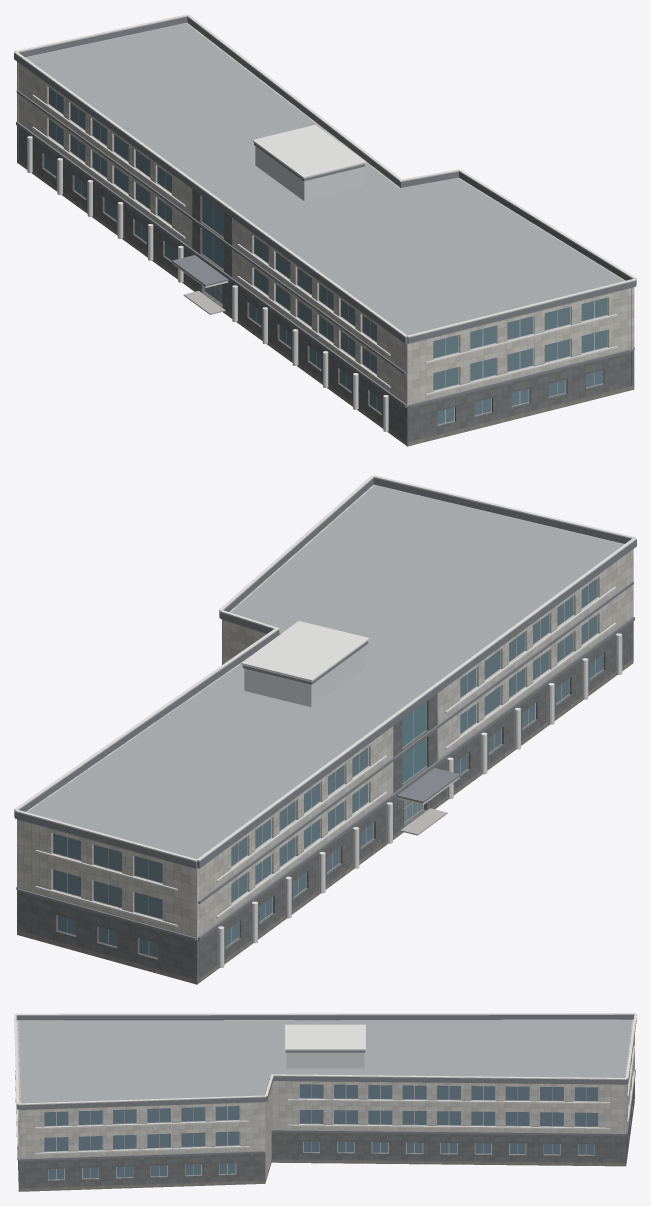
The picture shows the model from 3 angles, top to bottom: view 1: azimuth 30°, elevation 25°; view 2: azimuth 150°, elevation 25°; view 3: azimuth 270°, elevation 25°; orthographic projection. The views are drawn at different scales.
Visible parts, largest first — view 1: bi__roof, bi__panelwall, bi__glass, bi__bluetrim, bi__brick, bi__cap, bi__darkwall, bi__trim, bi__frame, bi__column, bi__core, bi__plinth (+2 smaller); view 2: bi__roof, bi__panelwall, bi__bluetrim, bi__glass, bi__brick, bi__cap, bi__darkwall, bi__trim, bi__column, bi__core, bi__frame, bi__plinth (+2 smaller); view 3: bi__roof, bi__panelwall, bi__darkwall, bi__glass, bi__bluetrim, bi__cap, bi__frame, bi__trim, bi__plinth, bi__core, bi__foundation.
Part boxes in pixels (x1,y1,x2,y2): bi__roof: [25, 23, 623, 335]; bi__panelwall: [17, 22, 634, 406]; bi__glass: [44, 87, 607, 424]; bi__bluetrim: [14, 17, 636, 407]; bi__brick: [17, 126, 407, 441]; bi__cap: [14, 14, 636, 337]; bi__darkwall: [17, 126, 634, 442]; bi__trim: [32, 94, 617, 395]; bi__frame: [44, 87, 607, 425]; bi__column: [27, 136, 388, 431]; bi__core: [255, 146, 363, 201]; bi__plinth: [17, 159, 633, 445]; bi__roof: [27, 485, 623, 859]; bi__panelwall: [17, 484, 633, 939]; bi__bluetrim: [14, 478, 636, 940]; bi__glass: [53, 578, 602, 957]; bi__brick: [193, 621, 633, 979]; bi__cap: [14, 475, 636, 861]; bi__darkwall: [17, 693, 437, 979]; bi__trim: [35, 586, 616, 927]; bi__column: [218, 633, 622, 967]; bi__core: [244, 645, 366, 707]; bi__frame: [52, 578, 603, 958]; bi__plinth: [17, 658, 633, 983]; bi__roof: [18, 1019, 632, 1103]; bi__panelwall: [16, 1019, 634, 1179]; bi__darkwall: [18, 1020, 634, 1188]; bi__glass: [44, 1084, 598, 1179]; bi__bluetrim: [15, 1015, 636, 1161]; bi__cap: [14, 1013, 636, 1105]; bi__frame: [44, 1084, 598, 1180]; bi__trim: [15, 1045, 635, 1154]; bi__plinth: [18, 1102, 634, 1190]; bi__core: [286, 1052, 364, 1068]; bi__foundation: [18, 1162, 625, 1191].
Bounding box in the file's own units: 30.09 × 14.62 × 79.76.
Materials: 18 (6 with a texture image).
